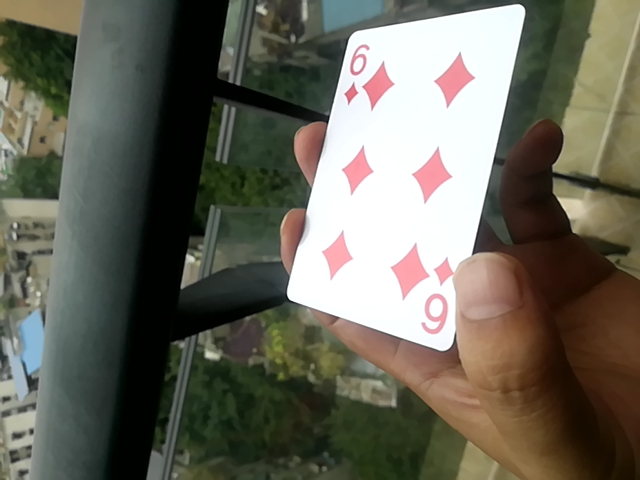fk 6: (279, 5, 522, 358)
